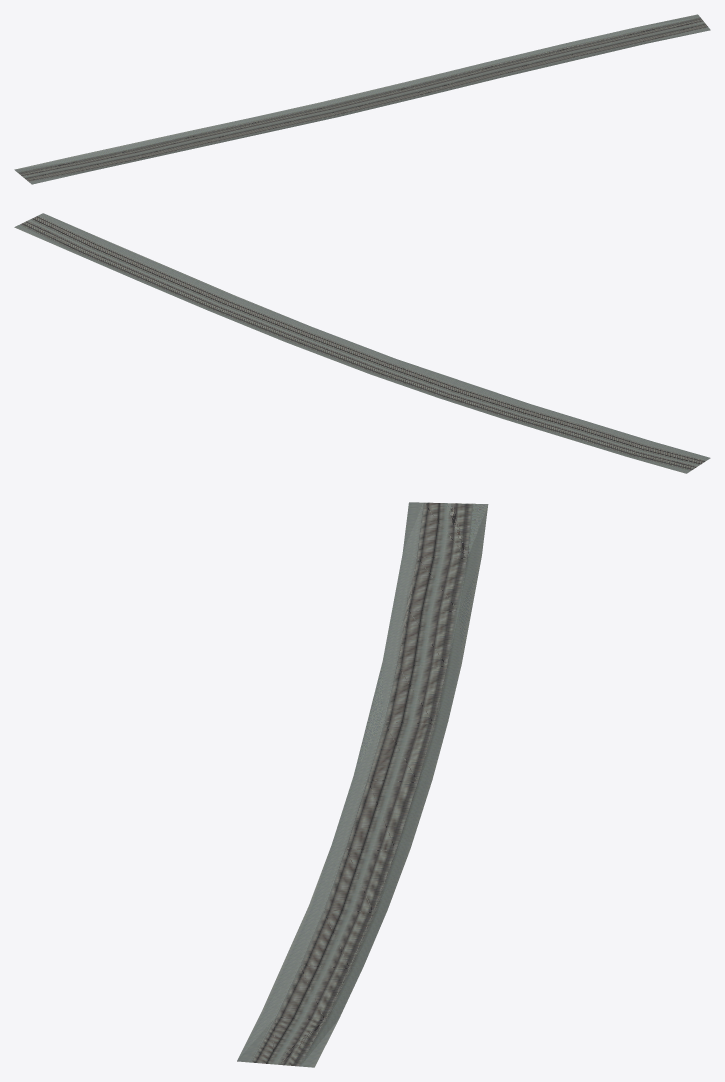
File: lod_des_line07.obj
The picture shows the model from 3 angles, top to bottom: view 1: azimuth 30°, elevation 25°; view 2: azimuth 150°, elevation 25°; view 3: azimuth 270°, elevation 25°; orthographic projection. The views are drawn at different scales.
Parts seen in each view (by area): view 1: lod_des_line07; view 2: lod_des_line07; view 3: lod_des_line07.
Part boxes in pixels (left/top/right/bottom): lod_des_line07: left=14, top=14, right=710, bottom=184; lod_des_line07: left=14, top=213, right=710, bottom=473; lod_des_line07: left=237, top=502, right=488, bottom=1067.
Bounding box in the file's own units: 206 × 9.8 × 35.01.
Materials: 1 (1 with a texture image).
